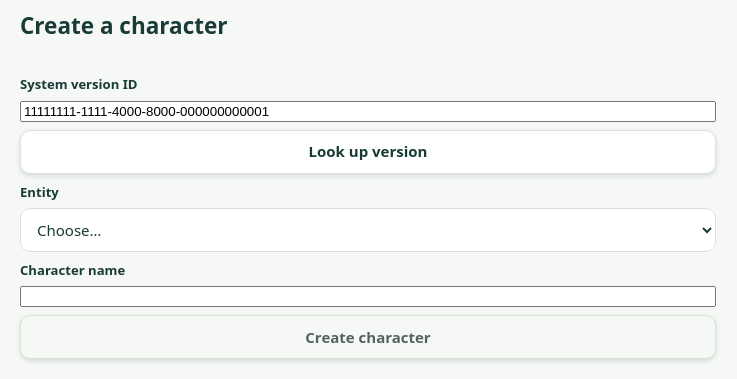
Test case: CreateCharacter › accepts an initial version ID from the route search input
Select "Hero" in the dropdown labelled "Entity": (368, 230) x1=20 y1=208 x2=716 y2=252
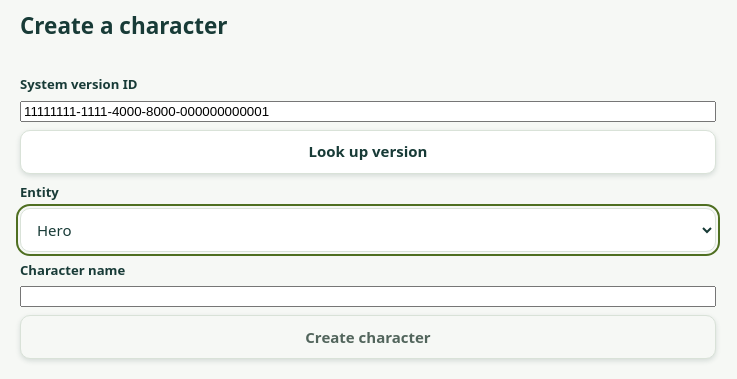
In the field labelled "Character name": (368, 297) x1=20 y1=286 x2=716 y2=307, type "Aria"
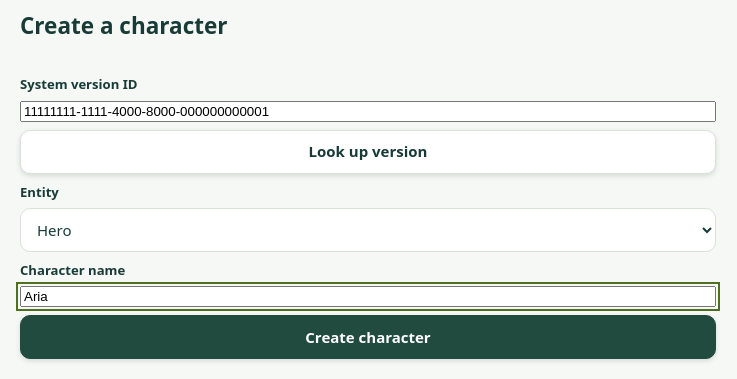
Check: the button "Create character" is enabled, box x1=20 y1=315 x2=716 y2=359
